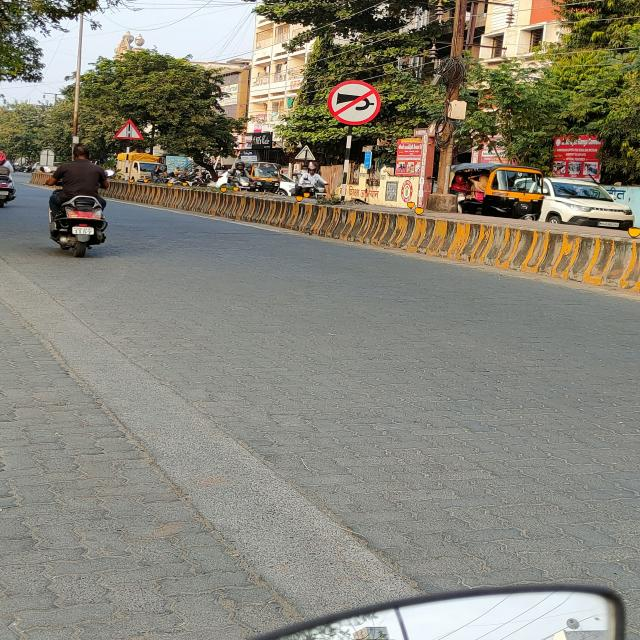HORN_PROHIBITED: (327, 80, 380, 124)
